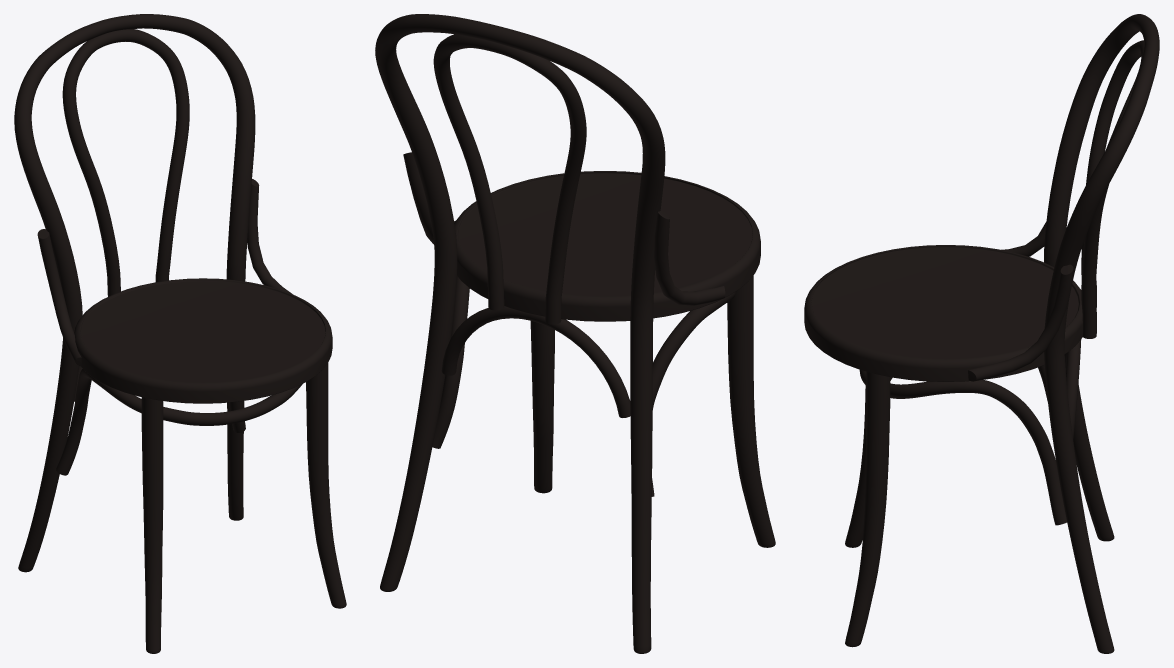
The model's file is chair_40.001.fbx.
3 renders of one model, left to right at view 1: azimuth 30°, elevation 25°; view 2: azimuth 150°, elevation 25°; view 3: azimuth 270°, elevation 25°, orthographic. The views are drawn at different scales.
Visible parts, largest first — view 1: chair_40.001; view 2: chair_40.001; view 3: chair_40.001.
Boxes of the visible parts, x1,y1,x2,y2 form: chair_40.001: (14,14,346,653); chair_40.001: (375,14,775,653); chair_40.001: (804,14,1159,653).
Size of the model in its own units: 42.93 by 89.93 by 51.97.
Materials: 1 (1 with a texture image).
